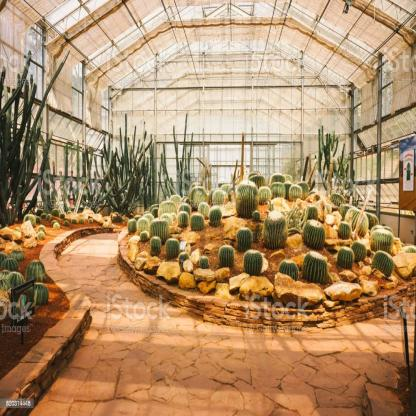Cactus: (261, 210, 289, 250), (301, 249, 329, 283), (236, 180, 258, 216), (344, 207, 368, 236), (371, 249, 394, 278), (303, 219, 325, 249), (242, 249, 264, 278), (279, 258, 298, 285), (149, 217, 170, 241), (235, 226, 253, 248), (338, 247, 354, 271), (372, 230, 392, 249), (219, 244, 235, 267), (350, 241, 366, 262), (208, 204, 222, 226), (190, 212, 205, 232), (164, 238, 179, 257), (270, 182, 285, 200), (191, 188, 206, 206), (337, 221, 351, 240), (258, 186, 272, 205), (160, 202, 176, 218), (330, 192, 344, 209), (150, 235, 162, 254), (197, 254, 209, 272), (176, 209, 188, 227), (297, 181, 309, 199), (137, 217, 149, 233), (306, 205, 318, 221), (289, 185, 301, 201), (212, 190, 224, 205), (198, 202, 209, 216), (127, 216, 136, 233), (179, 253, 189, 267), (140, 230, 148, 244), (151, 207, 160, 218), (252, 210, 260, 222)
